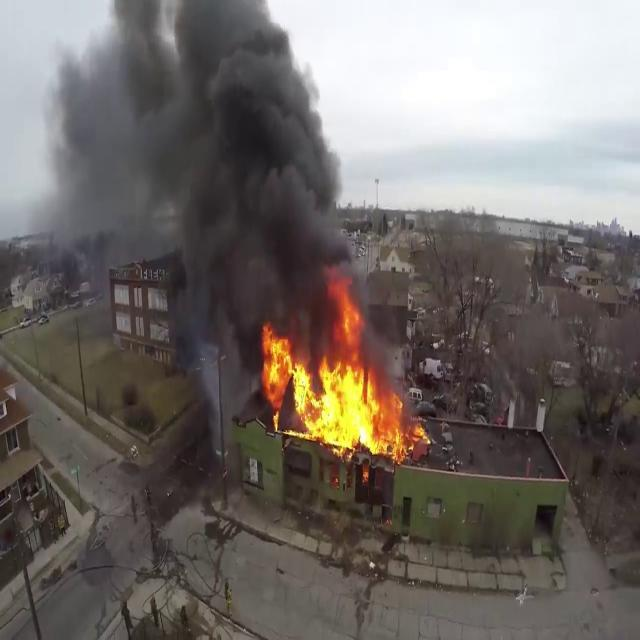Fire: (257, 303, 420, 462)
Smoke: (36, 0, 361, 329)
